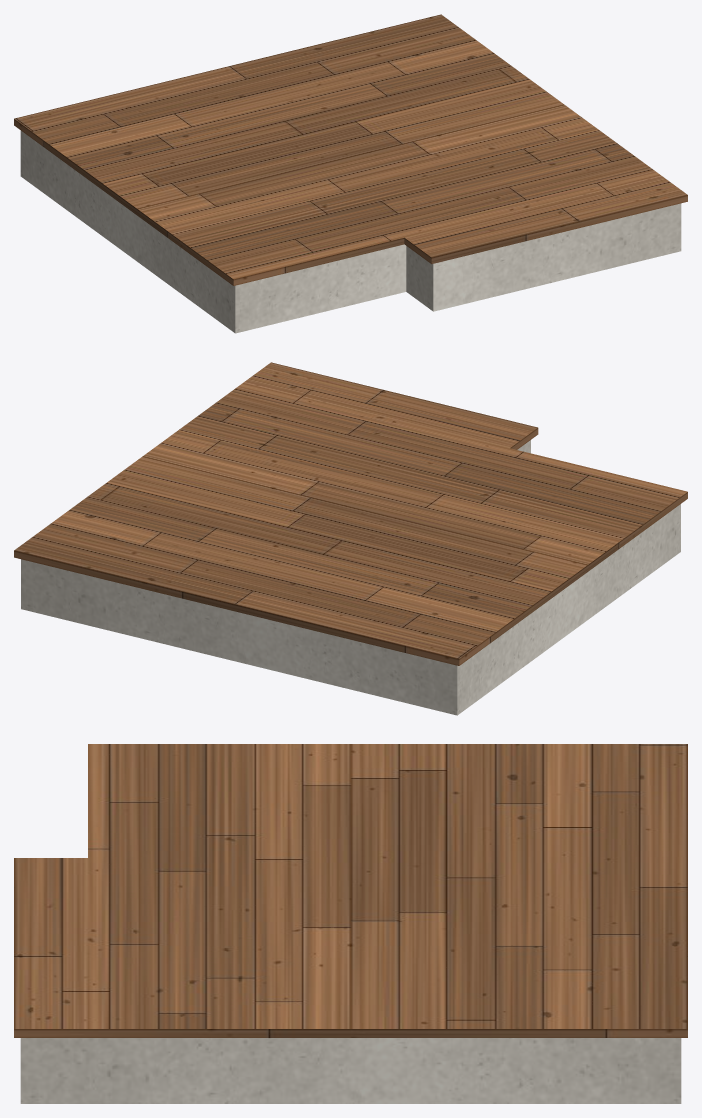
Rendered from floor_floor_u_h2.glb.
3 renders of one model, top to bottom at view 1: azimuth 30°, elevation 25°; view 2: azimuth 150°, elevation 25°; view 3: azimuth 270°, elevation 25°, orthographic. The views are drawn at different scales.
Visible parts, largest first — view 1: floor_floor_u_h2_floor, floor_floor_u_h2_plaster; view 2: floor_floor_u_h2_floor, floor_floor_u_h2_plaster; view 3: floor_floor_u_h2_floor, floor_floor_u_h2_plaster.
Boxes of the visible parts, x1,y1,x2,y2 form: floor_floor_u_h2_floor: (14, 14, 687, 285); floor_floor_u_h2_plaster: (20, 130, 681, 333); floor_floor_u_h2_floor: (14, 362, 687, 665); floor_floor_u_h2_plaster: (21, 440, 680, 715); floor_floor_u_h2_floor: (14, 744, 687, 1037); floor_floor_u_h2_plaster: (20, 1038, 681, 1103).
Bounding box in the file's own units: 2 × 0.255 × 2.
2 materials, 2 textured.
